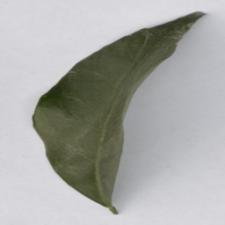Healthy: (45, 0, 168, 188)
